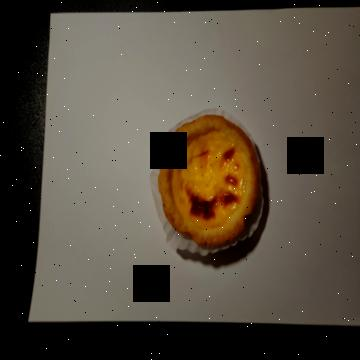EggTart: (159, 114, 259, 248)
